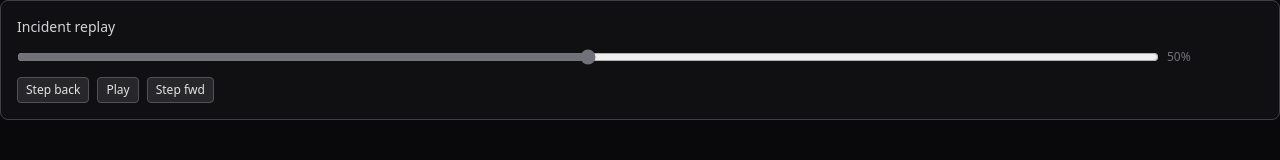
Scenario: IncidentReplayer › toggles Play/Pause when play button clicked
Click the button "Play".
click(118, 90)  # box x1=98 y1=77 x2=139 y2=103
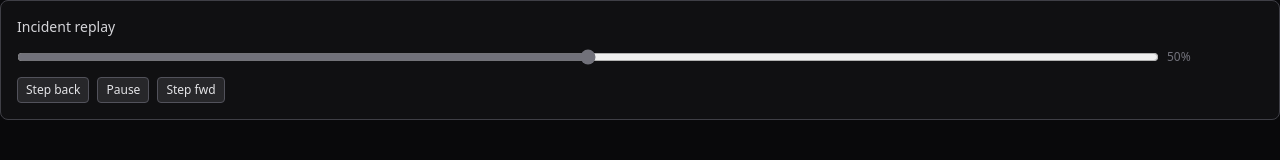
Expected: the button "Pause" is shown
Click the button "Pause".
click(123, 90)  # box x1=98 y1=77 x2=149 y2=103
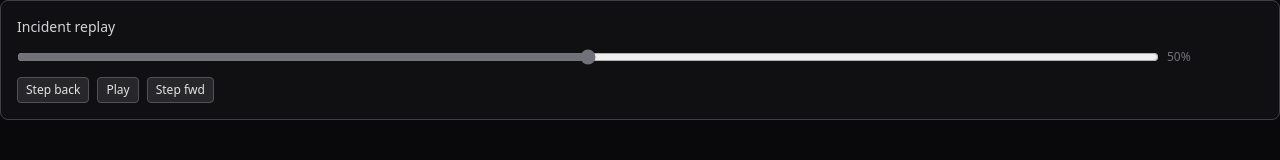
Expected: the button "Play" is shown, x1=98 y1=77 x2=139 y2=103
